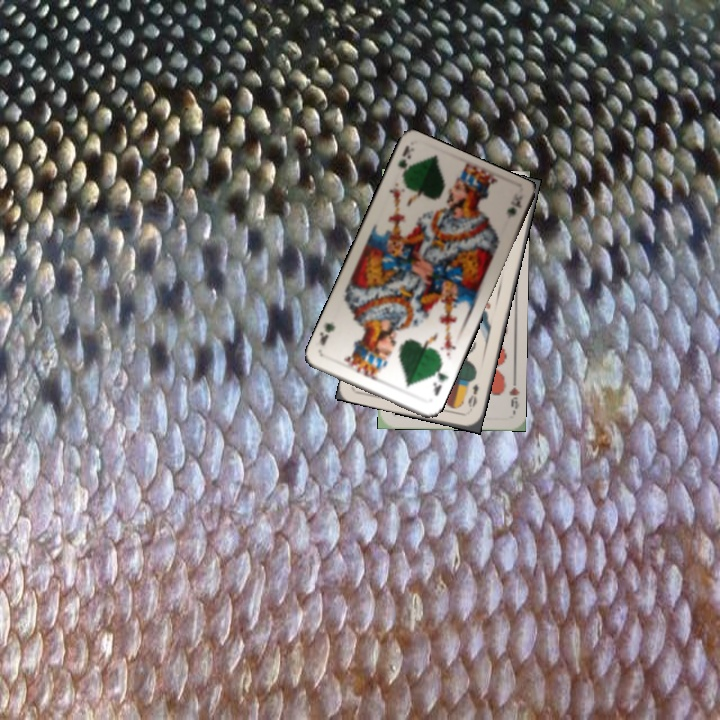EO: (464, 380, 481, 410)
GK: (394, 143, 416, 185), (429, 364, 451, 398)
H9: (505, 374, 522, 415)
